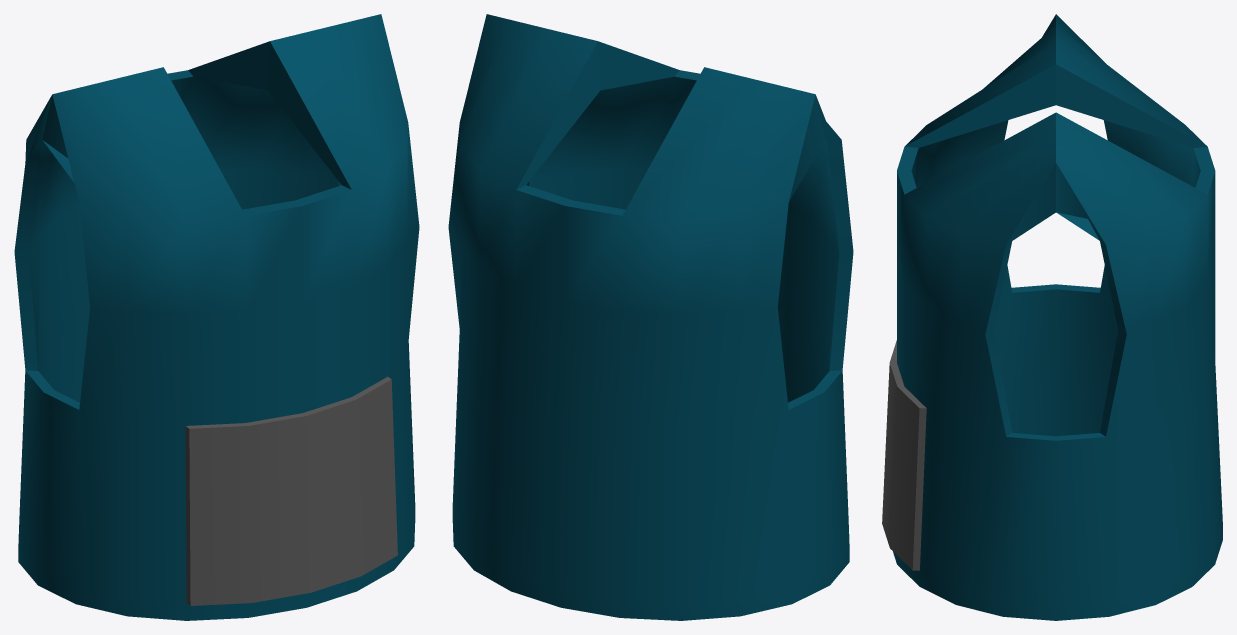
File: armor.fbx
3 views of the same model, side by side, from view 1: azimuth 30°, elevation 25°; view 2: azimuth 150°, elevation 25°; view 3: azimuth 270°, elevation 25° (orthographic). The views are drawn at different scales.
Parts seen in each view (by area): view 1: pCylinder1; view 2: pCylinder1; view 3: pCylinder1.
Part boxes in pixels (<box>): pCylinder1: <box>14,14,419,620</box>; pCylinder1: <box>448,14,853,620</box>; pCylinder1: <box>882,14,1222,620</box>.
Bounding box in the file's own units: 5.61 × 7.31 × 5.
